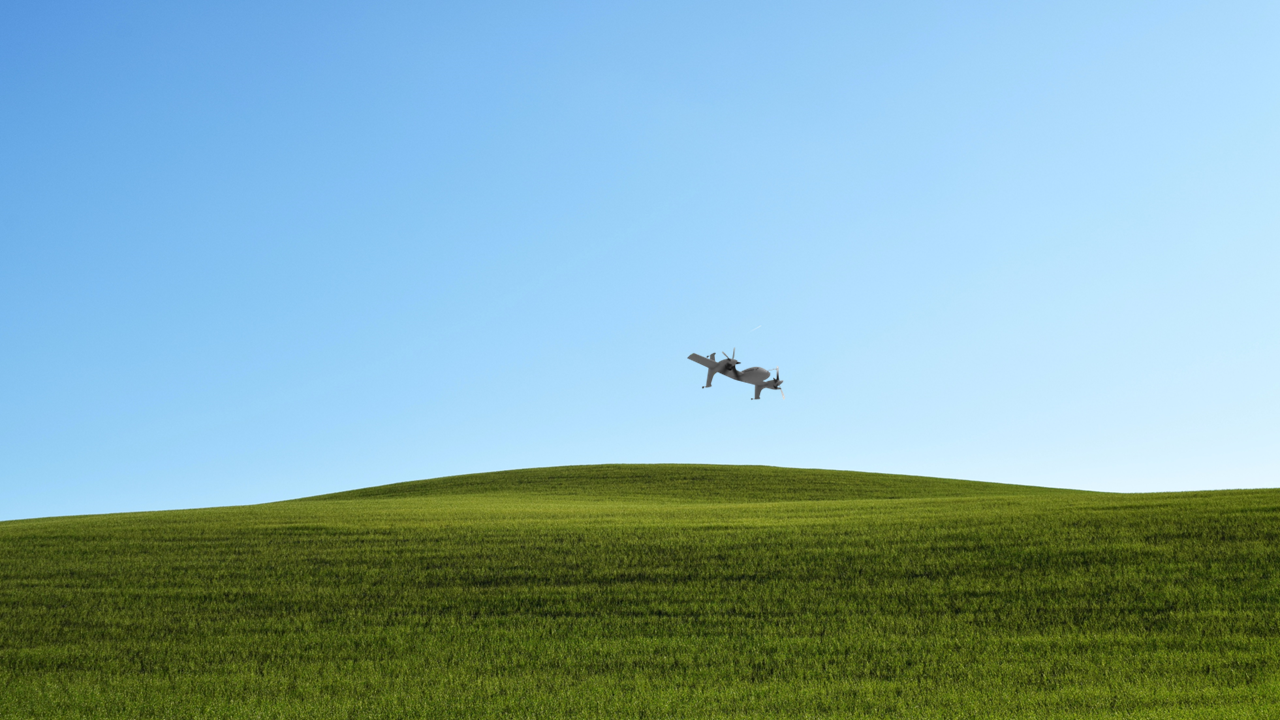military drone: (686, 347, 785, 400)
